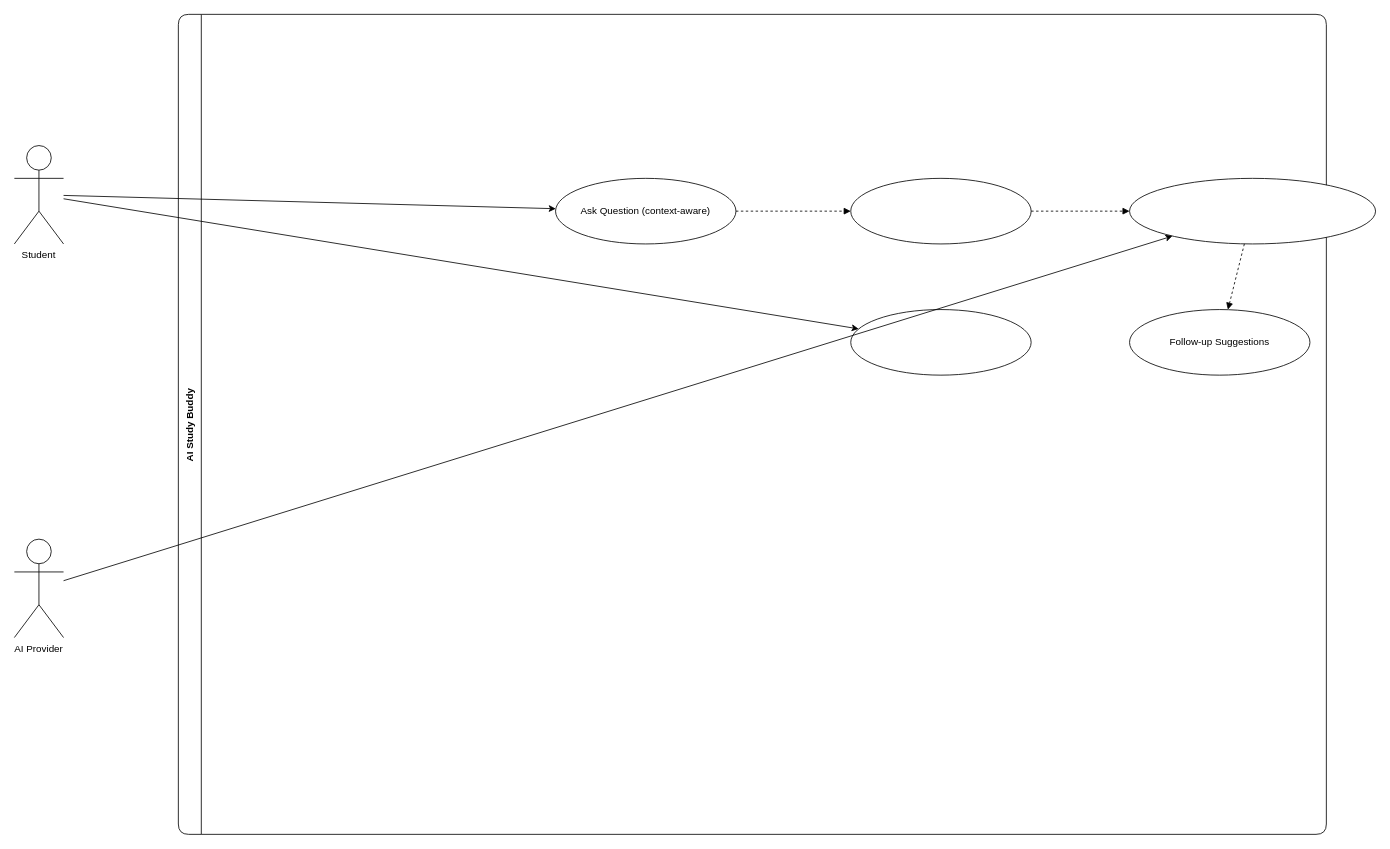
Some shapes in this 1390 by 849 pixel diagram are drawn without their labels. Each missing label, with the box of its shape:
Generate Answer (+citations): (1129, 178, 1376, 244)
Rate Answer / Save: (850, 309, 1031, 375)
Retrieve Relevant Notes: (850, 178, 1031, 244)
